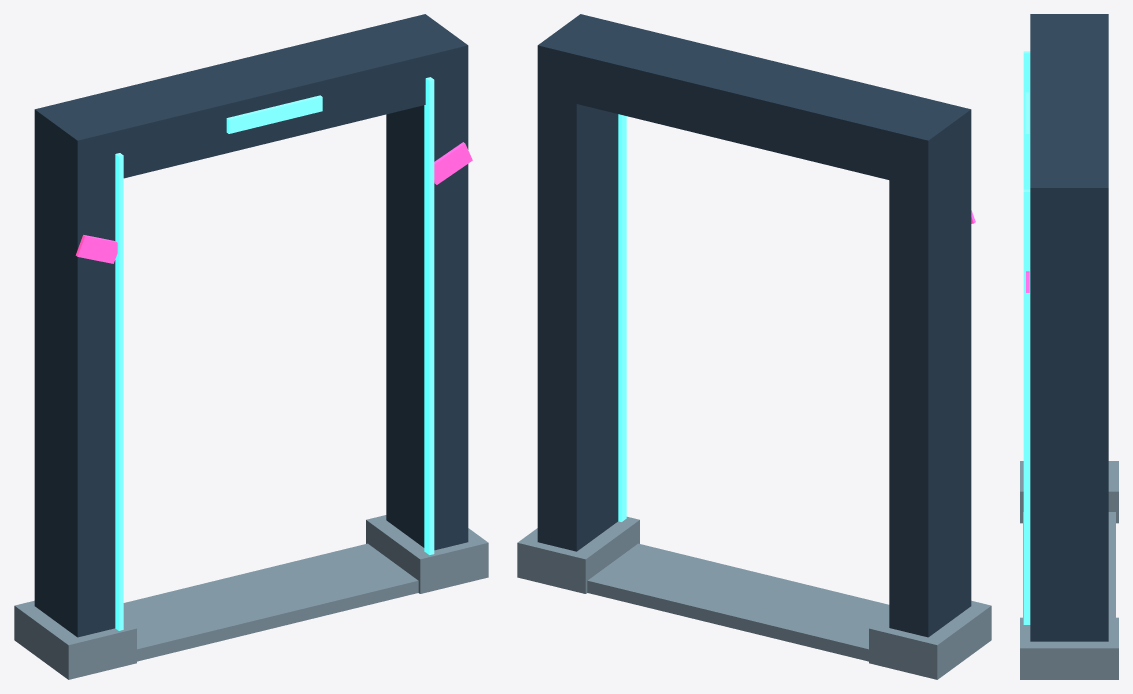
File: exit.glb
3 renders of one model, left to right at view 1: azimuth 30°, elevation 25°; view 2: azimuth 150°, elevation 25°; view 3: azimuth 270°, elevation 25°, orthographic. The views are drawn at different scales.
Parts seen in each view (by area): view 1: prop-exit-sz-armor, prop-exit-sz-edge, prop-exit-sz-mint, prop-exit-sz-pink; view 2: prop-exit-sz-armor, prop-exit-sz-edge, prop-exit-sz-mint; view 3: prop-exit-sz-armor, prop-exit-sz-edge, prop-exit-sz-mint.
Part boxes in pixels (left/top/right/bottom): prop-exit-sz-armor: left=34, top=14, right=468, bottom=637; prop-exit-sz-edge: left=14, top=515, right=488, bottom=679; prop-exit-sz-mint: left=115, top=77, right=434, bottom=630; prop-exit-sz-pink: left=75, top=142, right=472, bottom=263; prop-exit-sz-armor: left=537, top=14, right=971, bottom=637; prop-exit-sz-edge: left=517, top=516, right=991, bottom=679; prop-exit-sz-mint: left=618, top=114, right=626, bottom=521; prop-exit-sz-armor: left=1030, top=14, right=1108, bottom=641; prop-exit-sz-edge: left=1020, top=461, right=1118, bottom=679; prop-exit-sz-mint: left=1023, top=51, right=1030, bottom=624.
Size of the model in its own units: 2.15 by 2.6 by 0.48.
